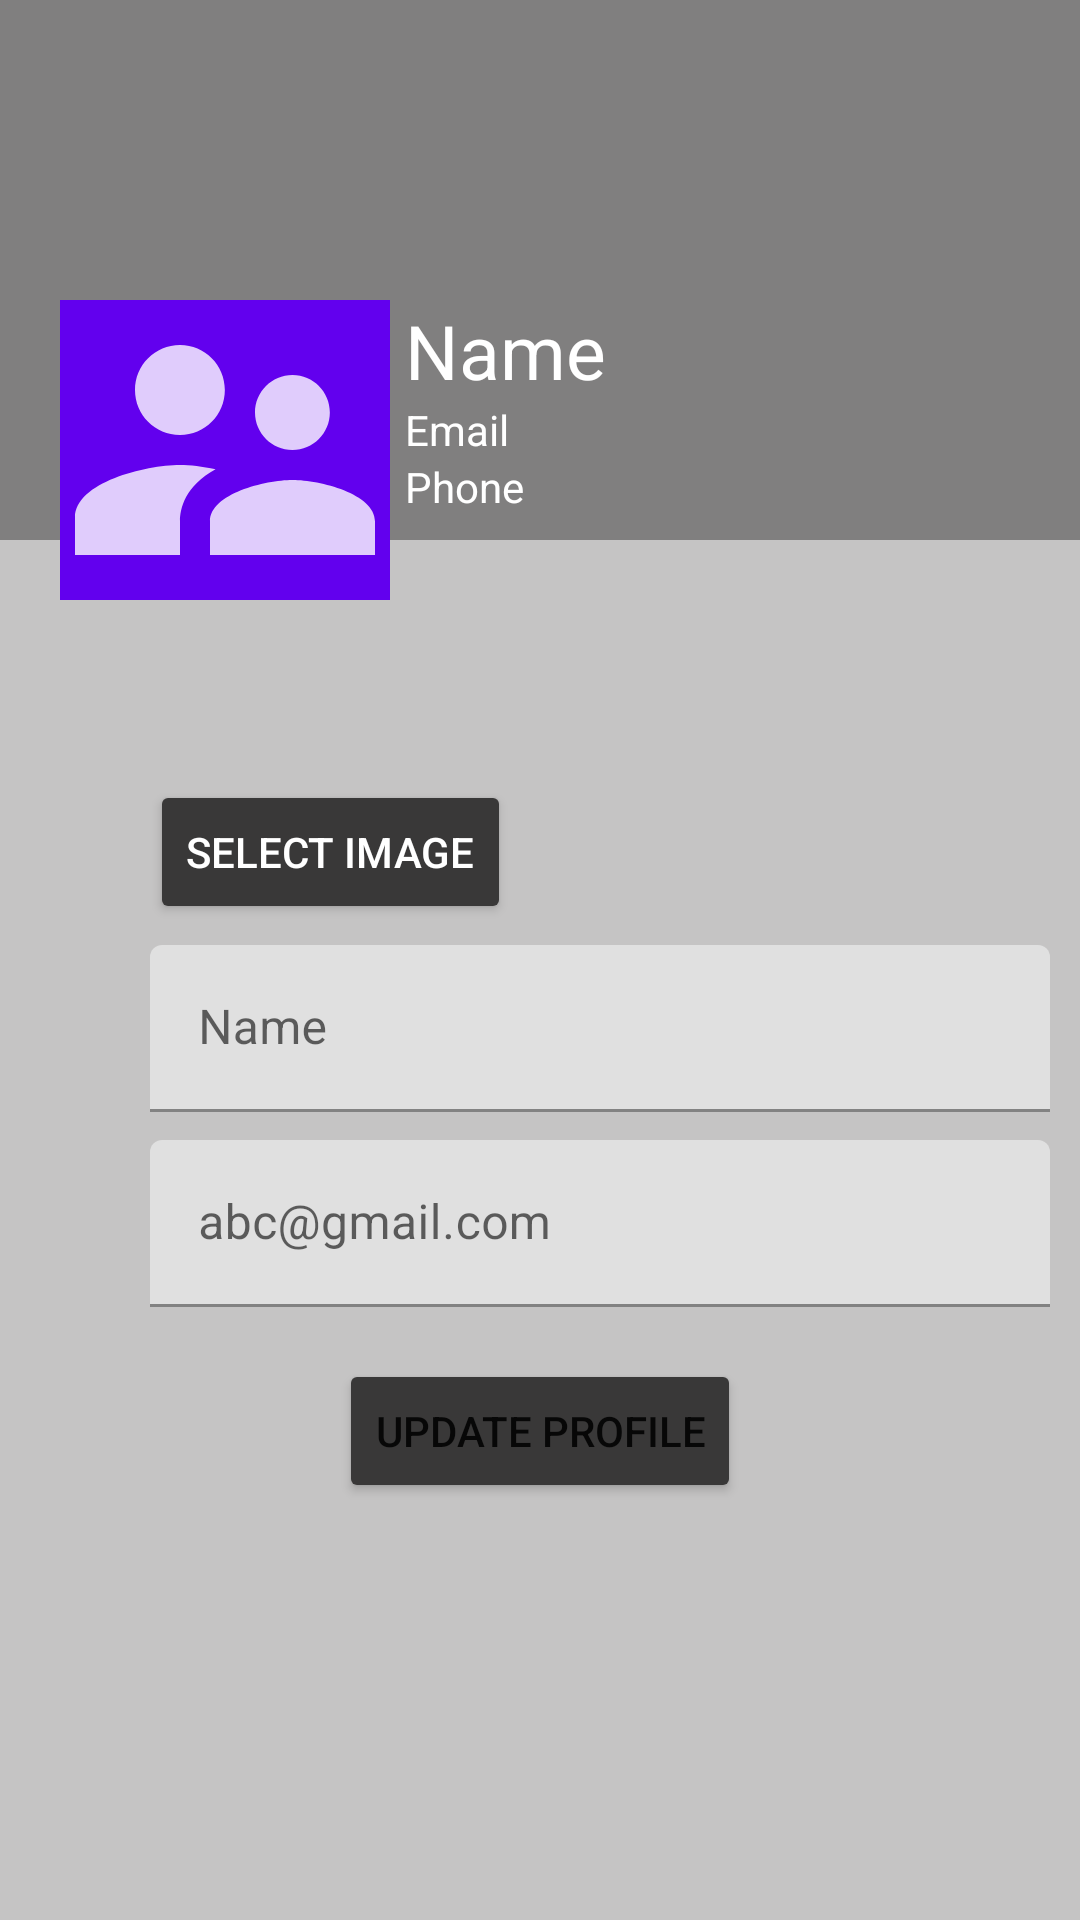

Icon click points for this 1080x1920 phone screenshot, format point (x, y):
users: point (225, 450)
